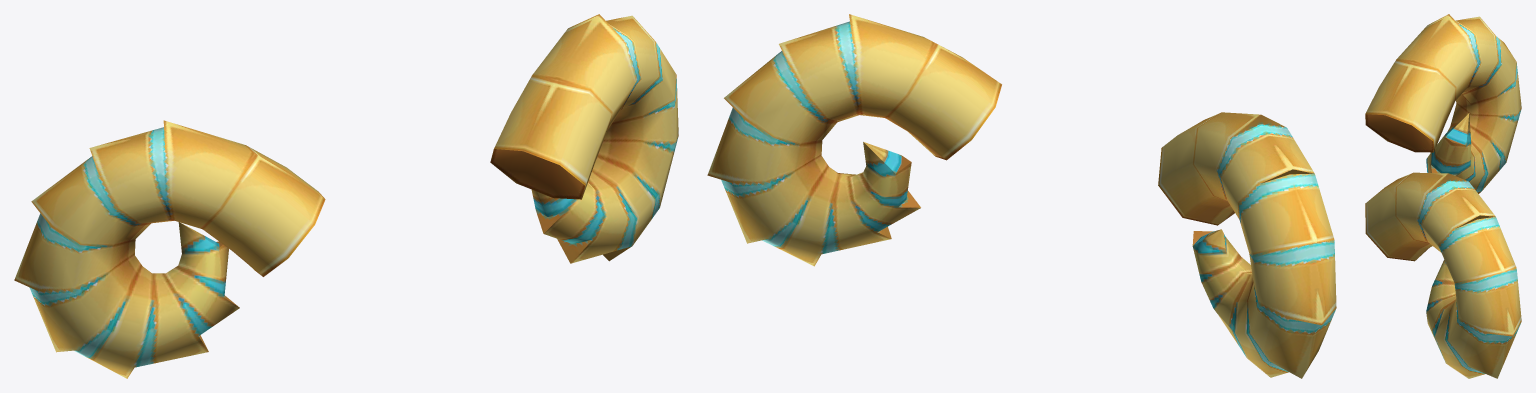
File: helm0017.fbx
3 views of the same model, side by side, from view 1: azimuth 30°, elevation 25°; view 2: azimuth 150°, elevation 25°; view 3: azimuth 270°, elevation 25° (orthographic). The views are drawn at different scales.
Parts seen in each view (by area): view 1: helm0017_m; view 2: helm0017_m; view 3: helm0017_m.
Part boxes in pixels (x1,y1,x2,y2): helm0017_m: [14, 14, 678, 378]; helm0017_m: [707, 14, 1336, 378]; helm0017_m: [1365, 14, 1521, 378].
Bounding box in the file's own units: 0.529 × 0.2046 × 0.1473.
